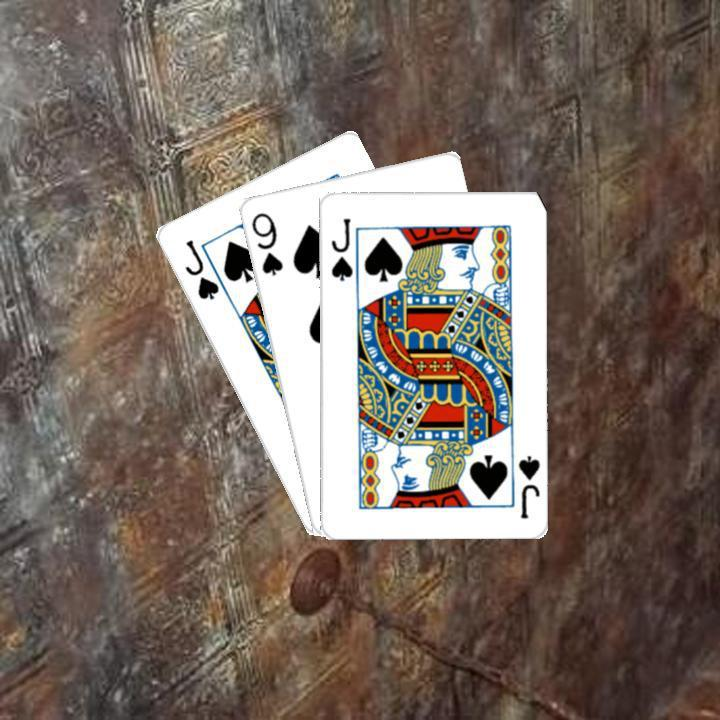9: (246, 208, 285, 278)
J: (179, 235, 221, 302), (326, 214, 354, 283), (514, 451, 541, 520)
